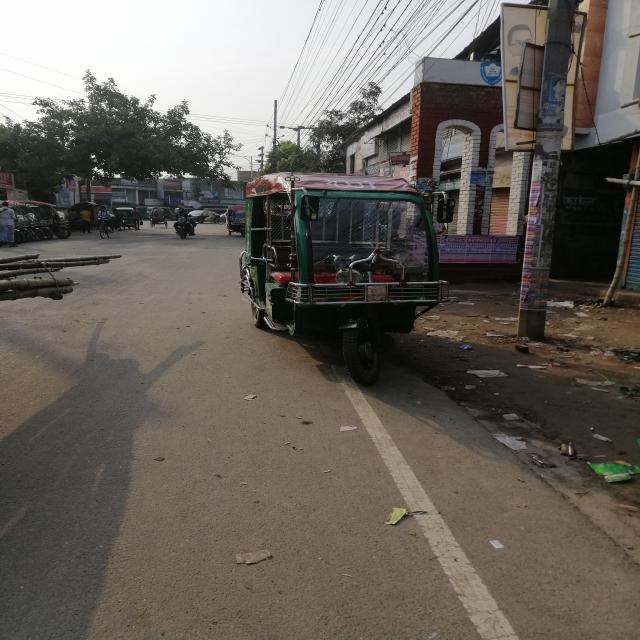Easybike: (220, 154, 457, 371)
Motorbike: (164, 216, 213, 247)
